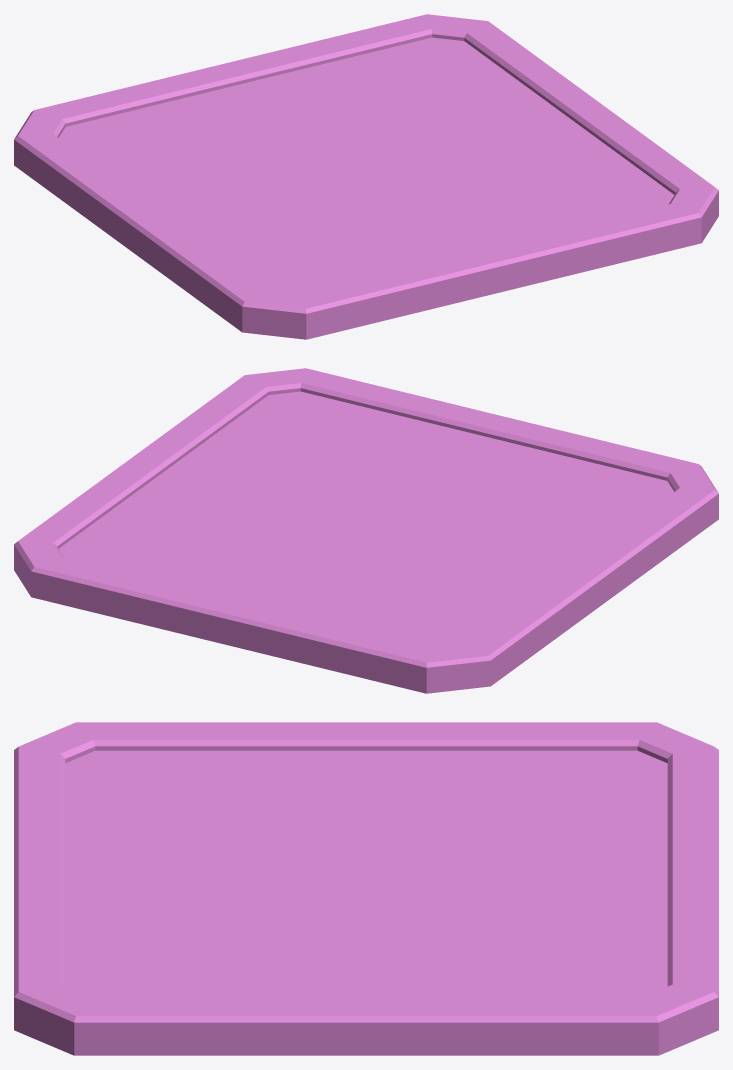
Rendered from biom_ground.fbx.
3 views of the same model, one above another, from view 1: azimuth 30°, elevation 25°; view 2: azimuth 150°, elevation 25°; view 3: azimuth 270°, elevation 25° (orthographic). The views are drawn at different scales.
Visible parts, largest first — view 1: pCube14; view 2: pCube14; view 3: pCube14.
Boxes of the visible parts, bbox=[...] form: pCube14: bbox=[14, 14, 718, 339]; pCube14: bbox=[14, 368, 718, 693]; pCube14: bbox=[14, 722, 718, 1055].
Size of the model in its own units: 1.15 by 0.0674 by 1.15.
